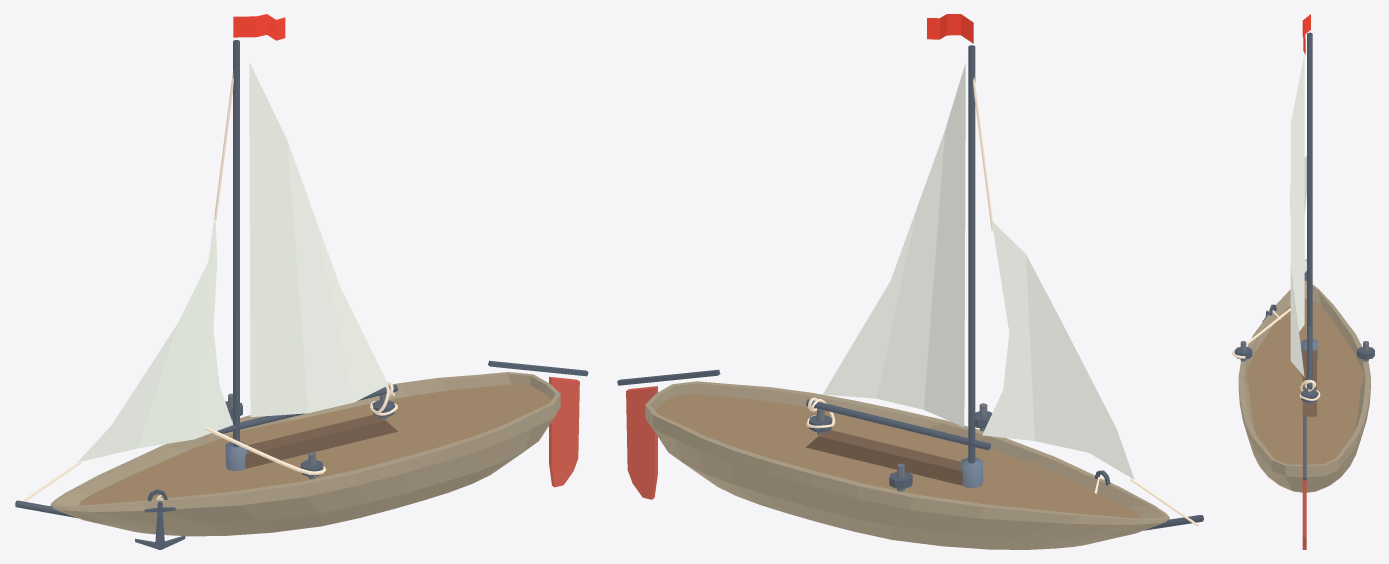
File: shiptest.glb
3 views of the same model, side by side, from view 1: azimuth 30°, elevation 25°; view 2: azimuth 150°, elevation 25°; view 3: azimuth 270°, elevation 25° (orthographic). The views are drawn at different scales.
Visible parts, largest first — view 1: Cylinder.034, Plane.005, Plane.006, Cube.026, Cylinder.029, Cube, Plane.020, Cube.003; view 2: Cylinder.034, Plane.005, Plane.006, Cube.026, Cylinder.029, Cube, Cylinder.030, Plane.020, BezierCurve.003; view 3: Cylinder.034, Plane.005, Cylinder.029, Cube.026, BezierCurve.003, Cube, Cylinder.030, Cube.002, Plane.006, BezierCurve.002, Plane.020, BezierCurve.
Part boxes in pixels (x1,y1,x2,y2): Cylinder.034: (50, 372, 560, 536); Plane.005: (249, 62, 388, 417); Plane.006: (77, 212, 233, 462); Cube.026: (245, 414, 397, 468); Cylinder.029: (233, 40, 239, 447); Cube: (549, 376, 579, 487); Plane.020: (233, 14, 285, 40); Cube.003: (135, 501, 185, 549); Cylinder.034: (645, 381, 1169, 549); Plane.005: (823, 63, 965, 426); Plane.006: (982, 221, 1134, 479); Cube.026: (806, 430, 962, 485); Cylinder.029: (968, 45, 975, 463); Cube: (626, 386, 657, 499); Cylinder.030: (806, 399, 990, 450); Plane.020: (927, 14, 973, 43); BezierCurve.003: (889, 403, 992, 491); Cylinder.034: (1238, 280, 1370, 492); Plane.005: (1290, 53, 1304, 376); Cylinder.029: (1307, 32, 1312, 327); Cube.026: (1302, 349, 1316, 416); BezierCurve.003: (1234, 341, 1374, 361); Cube: (1302, 462, 1306, 549); Cylinder.030: (1307, 326, 1312, 389); Cube.002: (1303, 416, 1306, 480); Plane.006: (1290, 156, 1306, 272); BezierCurve.002: (1232, 308, 1290, 358); Plane.020: (1302, 14, 1310, 54); BezierCurve: (1299, 379, 1320, 400).
Size of the model in its own units: 1.54 by 1.4 by 0.4378.
